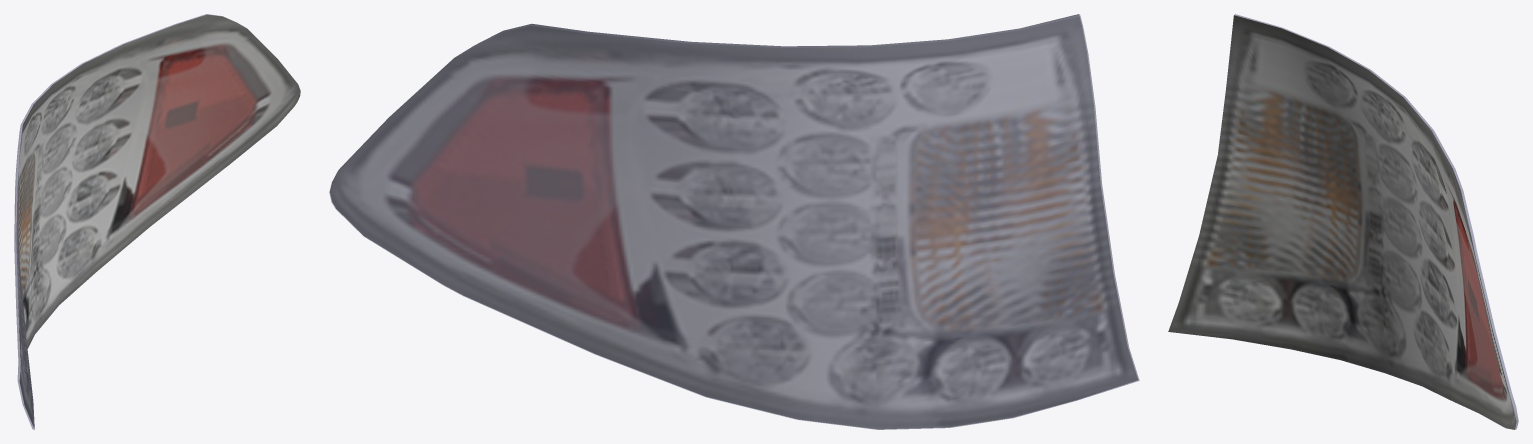
The picture shows the model from 3 angles, left to right: view 1: azimuth 30°, elevation 25°; view 2: azimuth 150°, elevation 25°; view 3: azimuth 270°, elevation 25°; orthographic projection. The views are drawn at different scales.
Visible parts, largest first — view 1: F183_541C_L_F183_541C_L_2_N, F183_541C_L_1_DTaSI_F183_541C_L; view 2: F183_541C_L_1_DTaSI_F183_541C_L, F183_541C_L_F183_541C_L_2_N; view 3: F183_541C_L_F183_541C_L_2_N, F183_541C_L_1_DTaSI_F183_541C_L.
Part boxes in pixels (bbox=[...]): F183_541C_L_F183_541C_L_2_N: bbox=[16, 14, 300, 428]; F183_541C_L_1_DTaSI_F183_541C_L: bbox=[14, 14, 230, 429]; F183_541C_L_1_DTaSI_F183_541C_L: bbox=[329, 14, 1139, 429]; F183_541C_L_F183_541C_L_2_N: bbox=[330, 14, 1137, 429]; F183_541C_L_F183_541C_L_2_N: bbox=[1168, 15, 1516, 429]; F183_541C_L_1_DTaSI_F183_541C_L: bbox=[1234, 14, 1518, 429].
Bounding box in the file's own units: 36.88 × 22.85 × 22.33.
